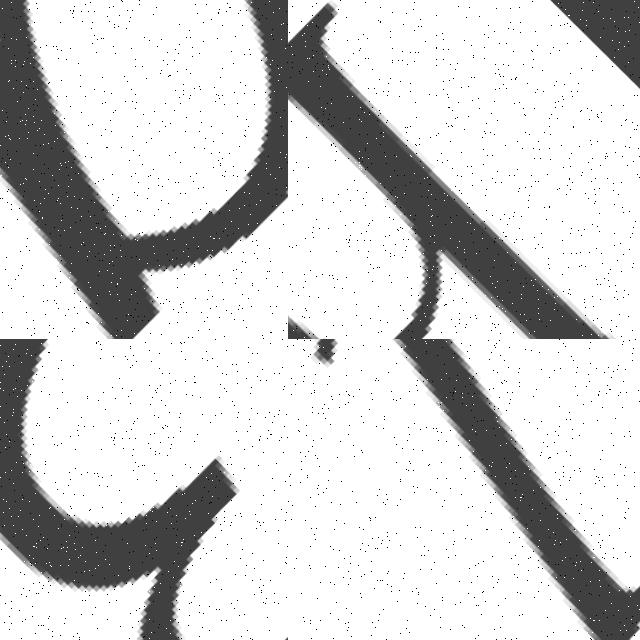3: (0, 339, 288, 640)
A: (0, 0, 288, 339)
H: (288, 0, 636, 339)
L: (288, 339, 640, 640)
